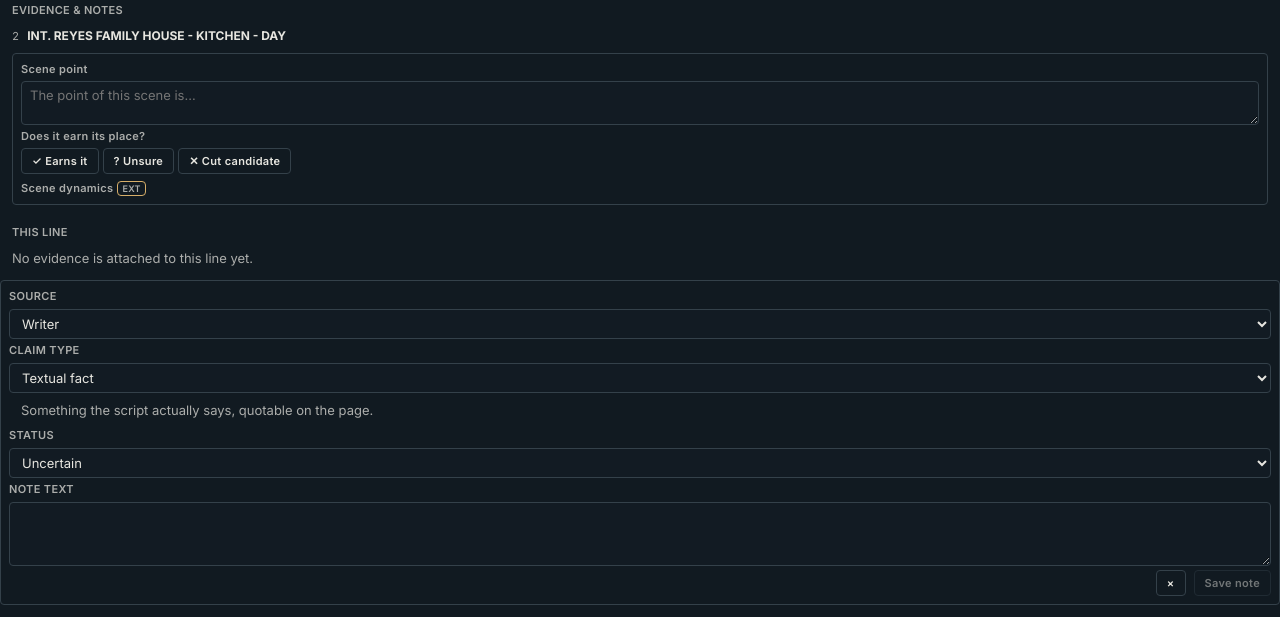
Scenario: screenplay-native annotation flow › the note count updates when a note is added
The image size is (1280, 617).
(page scrolled)
Type "Second note on this line." into the text box labelled "Note text".
click(640, 534); type("Second note on this line.")  # box [9,502,1271,566]
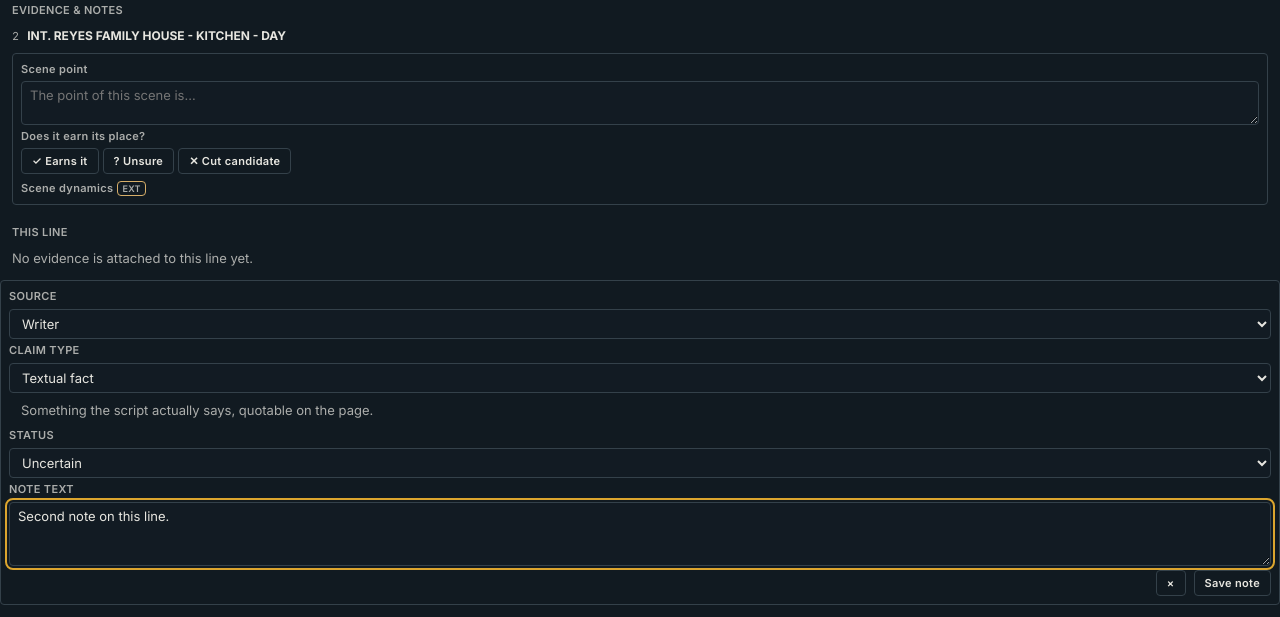
Click the button "Save note".
click(1232, 583)  # box [1194,570,1271,596]
(page scrolled)
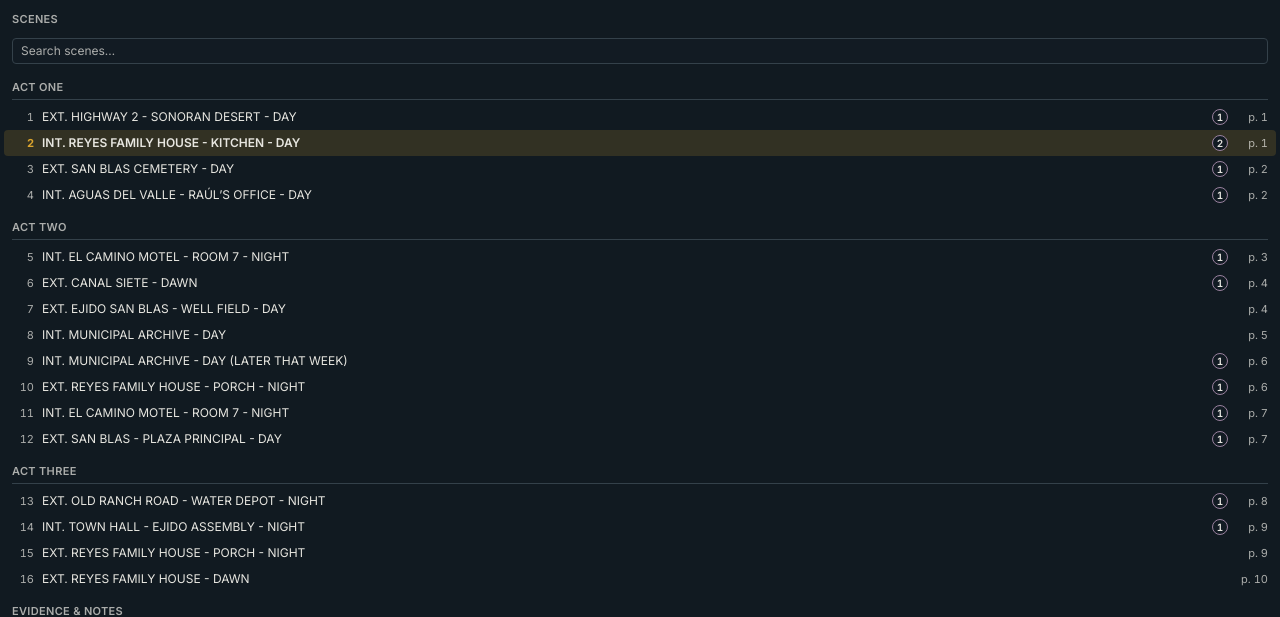
Result: the text named "Notes: 2" is shown at [1212,135,1228,151]
